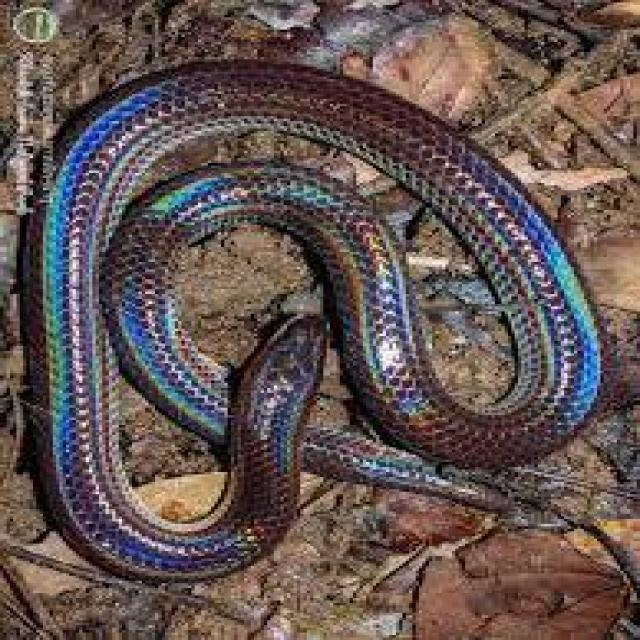Non-Venomous: (180, 282, 339, 543)
